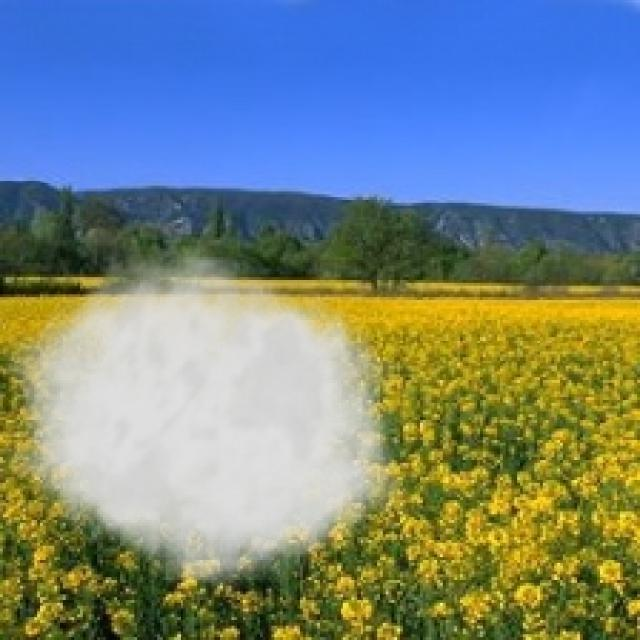smoke: (3, 237, 414, 597)
